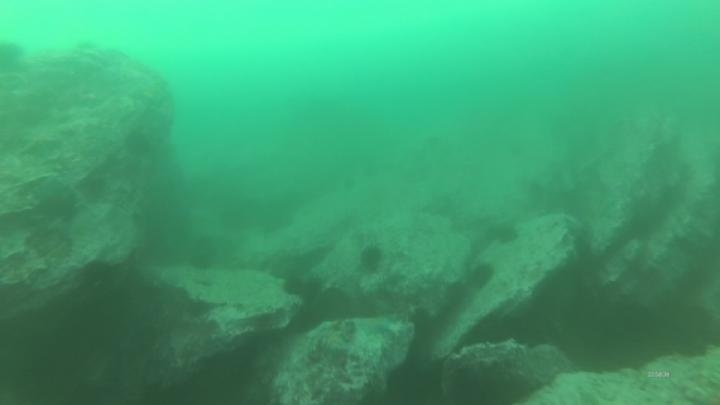echinus: (312, 284, 355, 325), (121, 127, 155, 160), (465, 260, 497, 292), (356, 242, 387, 275), (441, 279, 472, 311), (488, 220, 521, 248), (279, 272, 309, 300)
starfish: (17, 130, 65, 161), (351, 312, 399, 339)
